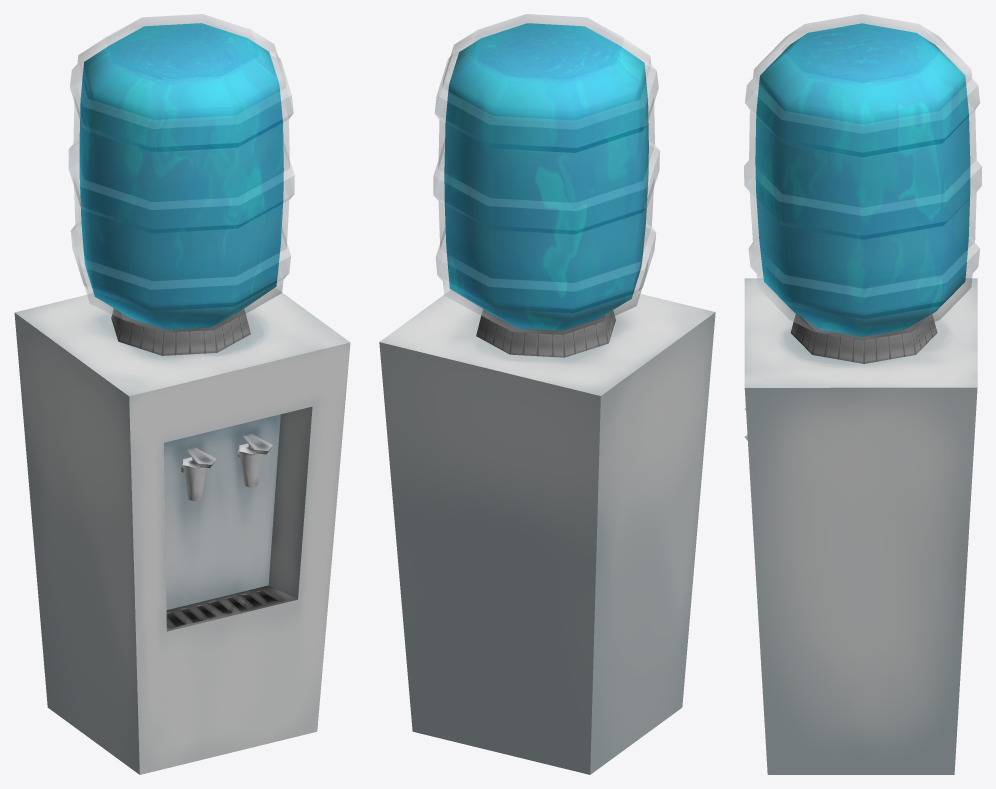
Rendered from Big_Watercooler.fbx.
3 views of the same model, side by side, from view 1: azimuth 30°, elevation 25°; view 2: azimuth 150°, elevation 25°; view 3: azimuth 270°, elevation 25° (orthographic).
Parts seen in each view (by area): view 1: Watercooler; view 2: Watercooler; view 3: Watercooler.
Part boxes in pixels (left/top/right/bottom): Watercooler: left=14, top=14, right=350, bottom=774; Watercooler: left=379, top=14, right=715, bottom=774; Watercooler: left=744, top=14, right=981, bottom=774.
Size of the model in its own units: 140 by 406 by 128.
